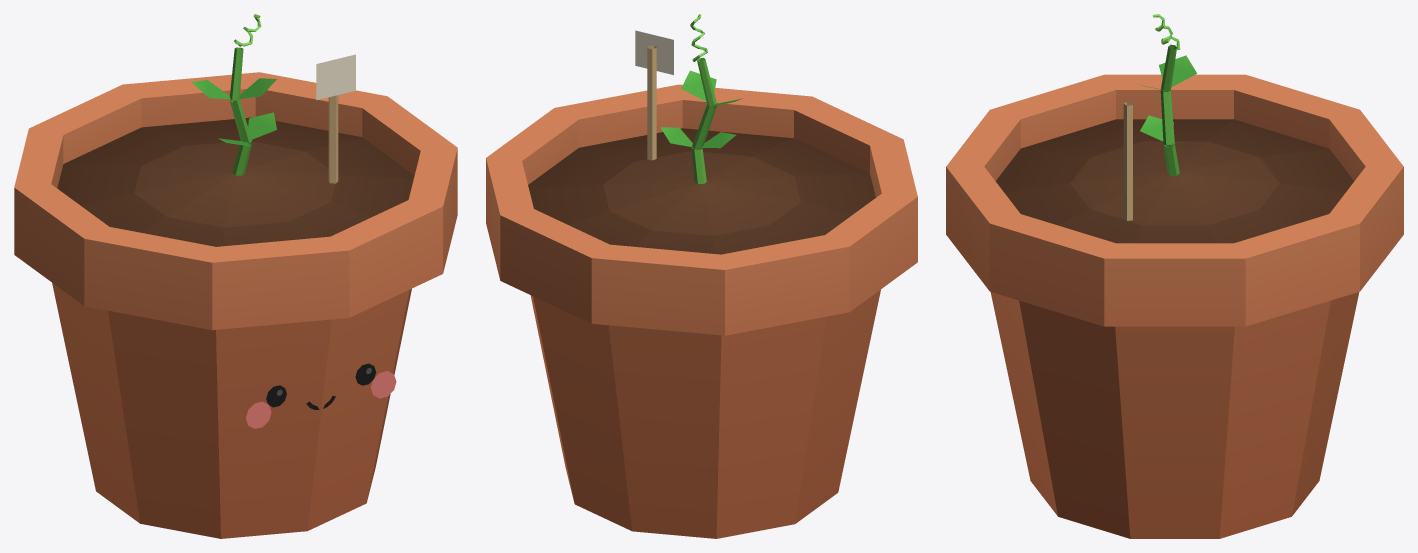
The model's file is cute_pea_stage2.glb.
The picture shows the model from 3 angles, left to right: view 1: azimuth 30°, elevation 25°; view 2: azimuth 150°, elevation 25°; view 3: azimuth 270°, elevation 25°; orthographic projection. The views are drawn at different scales.
Parts seen in each view (by area): view 1: PeaPlant; view 2: PeaPlant; view 3: PeaPlant.
Part boxes in pixels (box(x1,y1,x2,y2)): PeaPlant: box(14, 14, 457, 538); PeaPlant: box(486, 14, 917, 538); PeaPlant: box(946, 14, 1403, 538).
Size of the model in its own units: 0.3766 by 0.451 by 0.396.
